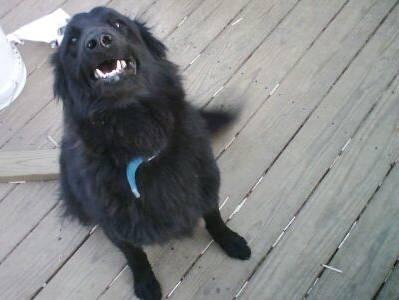dog: (52, 6, 250, 298)
